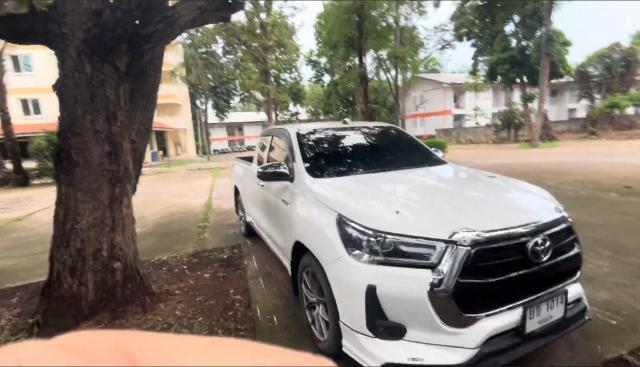pickup-truck: (232, 121, 593, 365)
